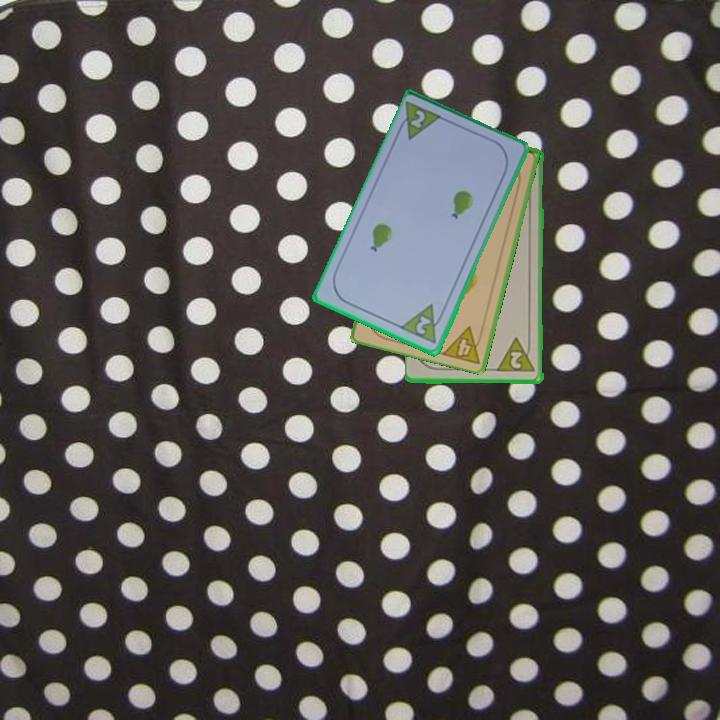2p: (397, 301, 448, 347), (495, 334, 538, 375), (407, 107, 428, 131)
4p: (438, 322, 487, 367)
